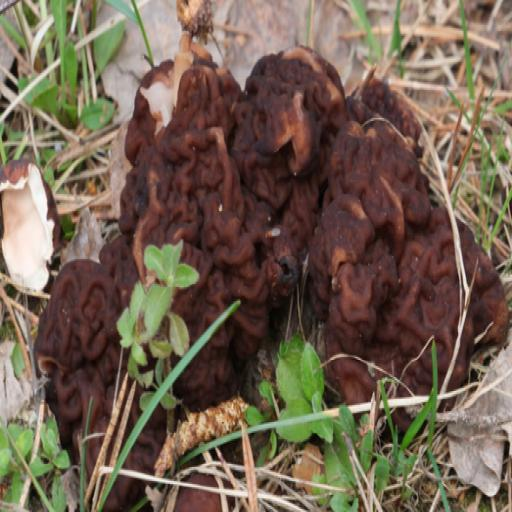mushroom: (38, 46, 510, 469)
